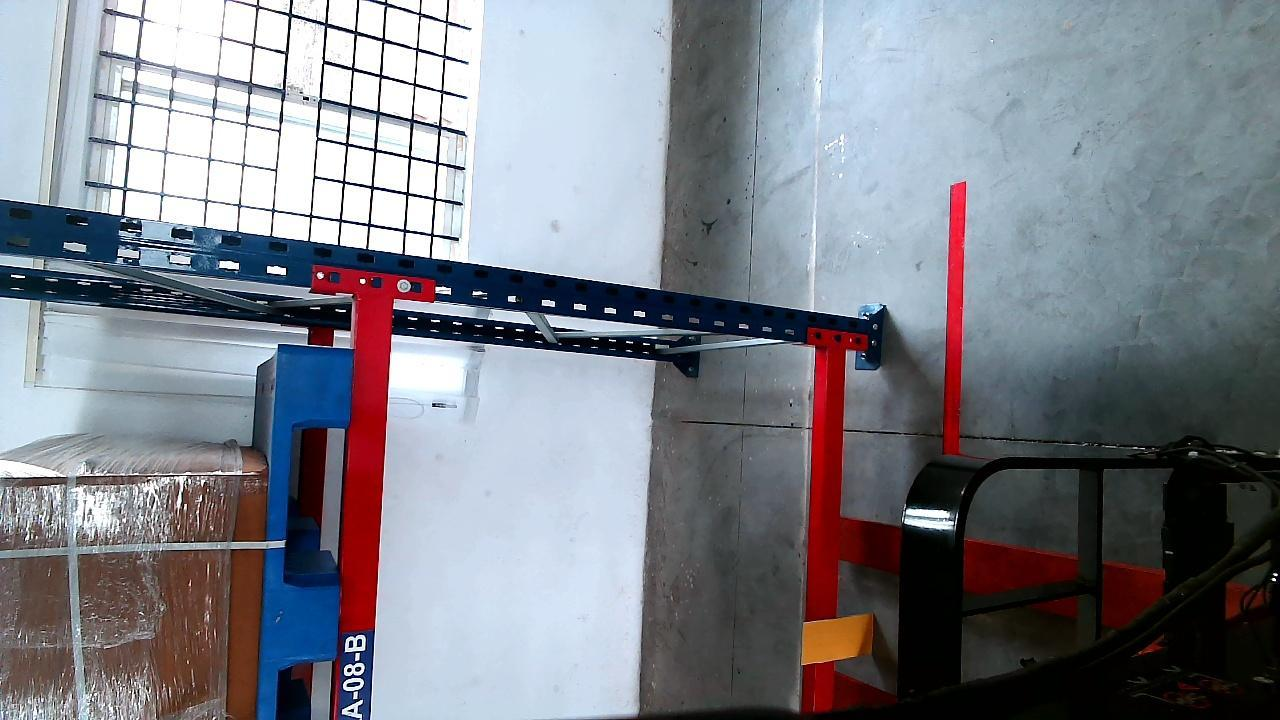red_line: (940, 180, 966, 453)
